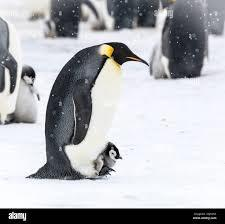emporer: (24, 36, 157, 178)
